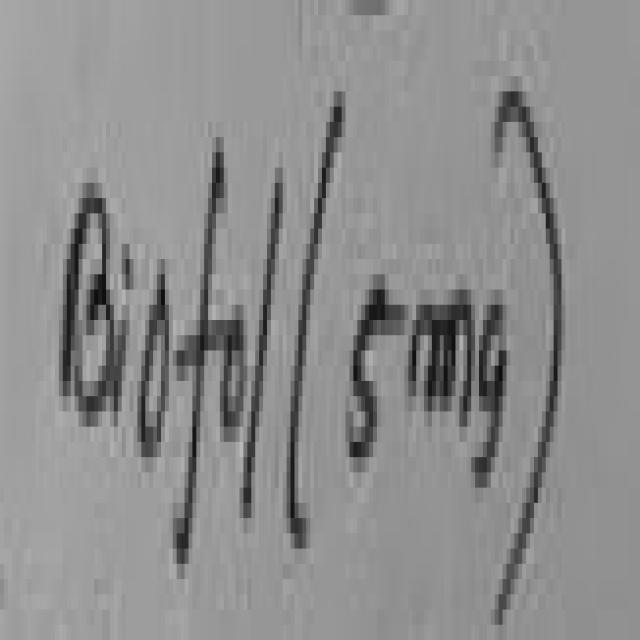5: (353, 290, 402, 450)
B: (63, 198, 114, 427)
f: (177, 152, 228, 564)
g: (475, 305, 510, 488)
i: (114, 305, 130, 419), (122, 244, 133, 290)
l: (243, 183, 283, 510)
m: (410, 290, 475, 419)
o: (141, 274, 169, 457), (224, 320, 243, 442)
